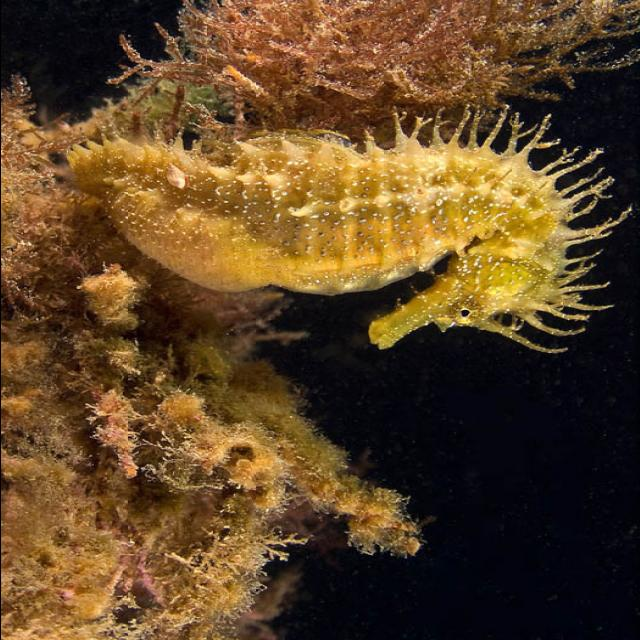Guttu: (359, 247, 582, 357)
